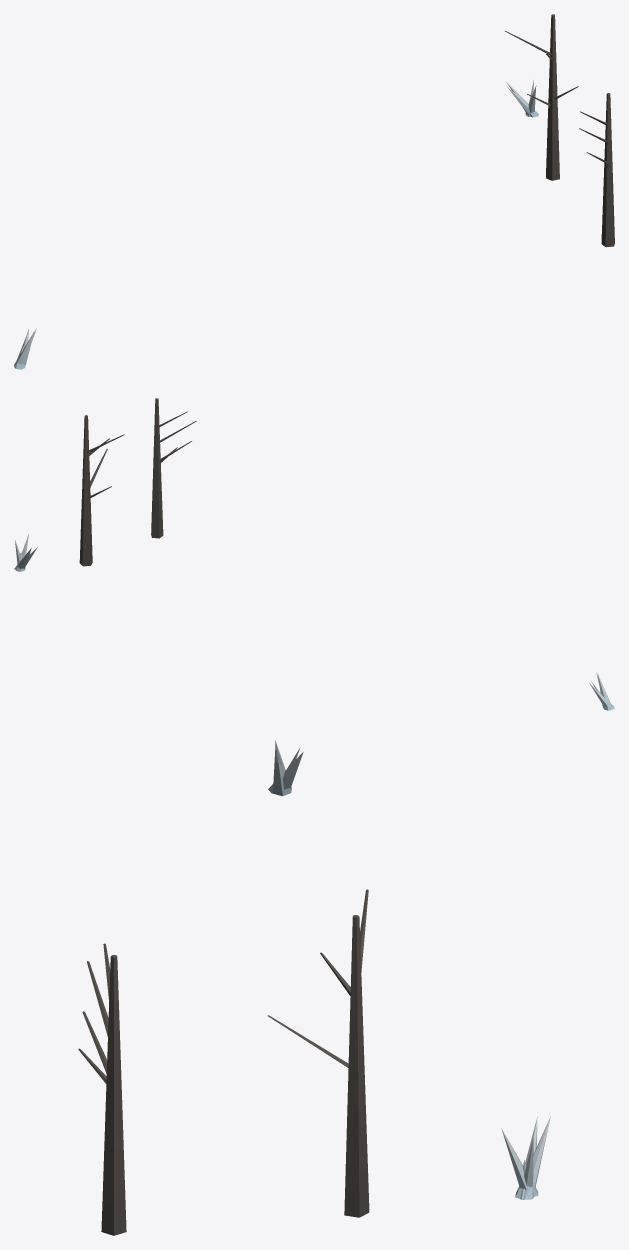
Rendered from frost_land_scatter_c23_10.glb.
3 renders of one model, top to bottom at view 1: azimuth 30°, elevation 25°; view 2: azimuth 150°, elevation 25°; view 3: azimuth 270°, elevation 25°, orthographic. The views are drawn at different scales.
Parts seen in each view (by area): view 1: frost_land_scatter_c23_10; view 2: frost_land_scatter_c23_10; view 3: frost_land_scatter_c23_10.
Part boxes in pixels (x1,y1,x2,y2): frost_land_scatter_c23_10: [14, 14, 614, 369]; frost_land_scatter_c23_10: [14, 398, 614, 710]; frost_land_scatter_c23_10: [78, 740, 550, 1235].
Size of the model in its own units: 31.89 by 10.38 by 12.15.
